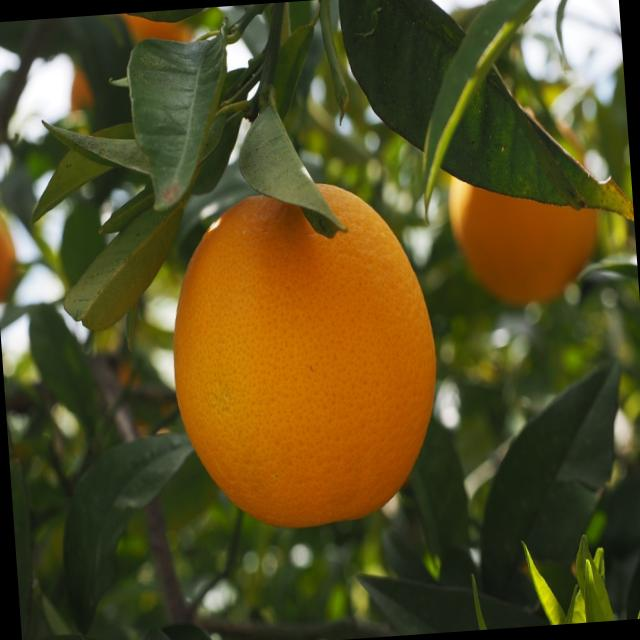orange: (152, 170, 456, 543), (427, 94, 612, 318)
